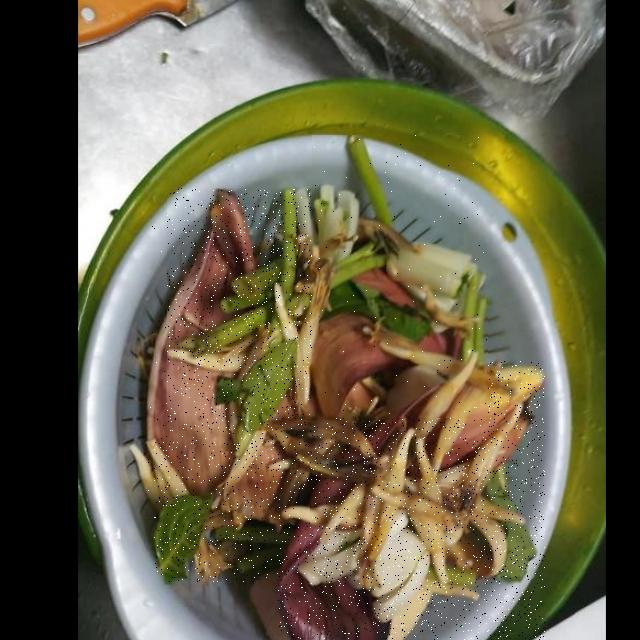biowaste: (278, 362, 545, 640), (167, 189, 333, 503), (312, 136, 488, 418), (147, 189, 256, 497), (154, 431, 310, 583)
